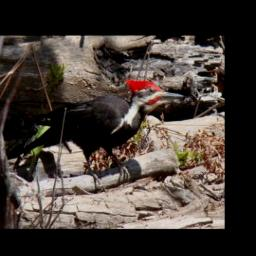Woodpecker: (7, 77, 187, 189)
